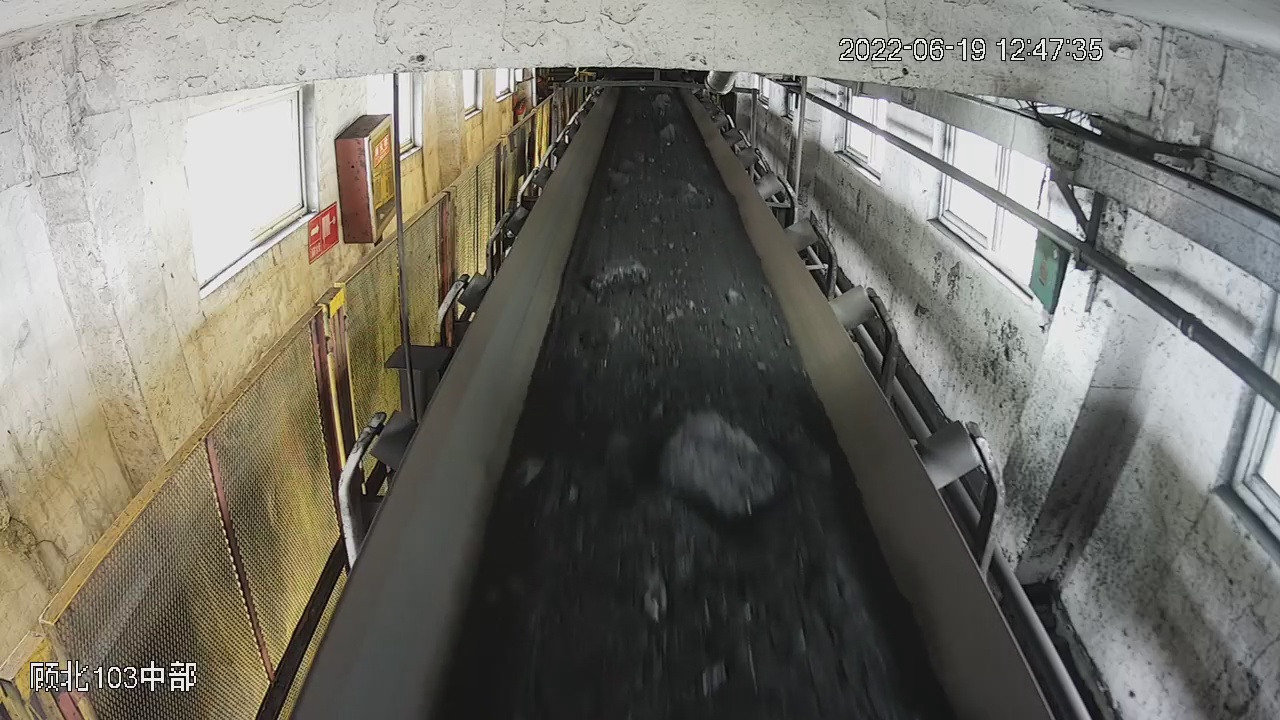gangue: (663, 406, 780, 510), (588, 253, 648, 297), (642, 546, 668, 621), (509, 457, 541, 487), (606, 167, 628, 188), (654, 90, 672, 111), (660, 124, 675, 143)
